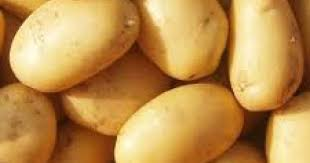potato: (8, 1, 142, 89), (227, 1, 305, 113)
